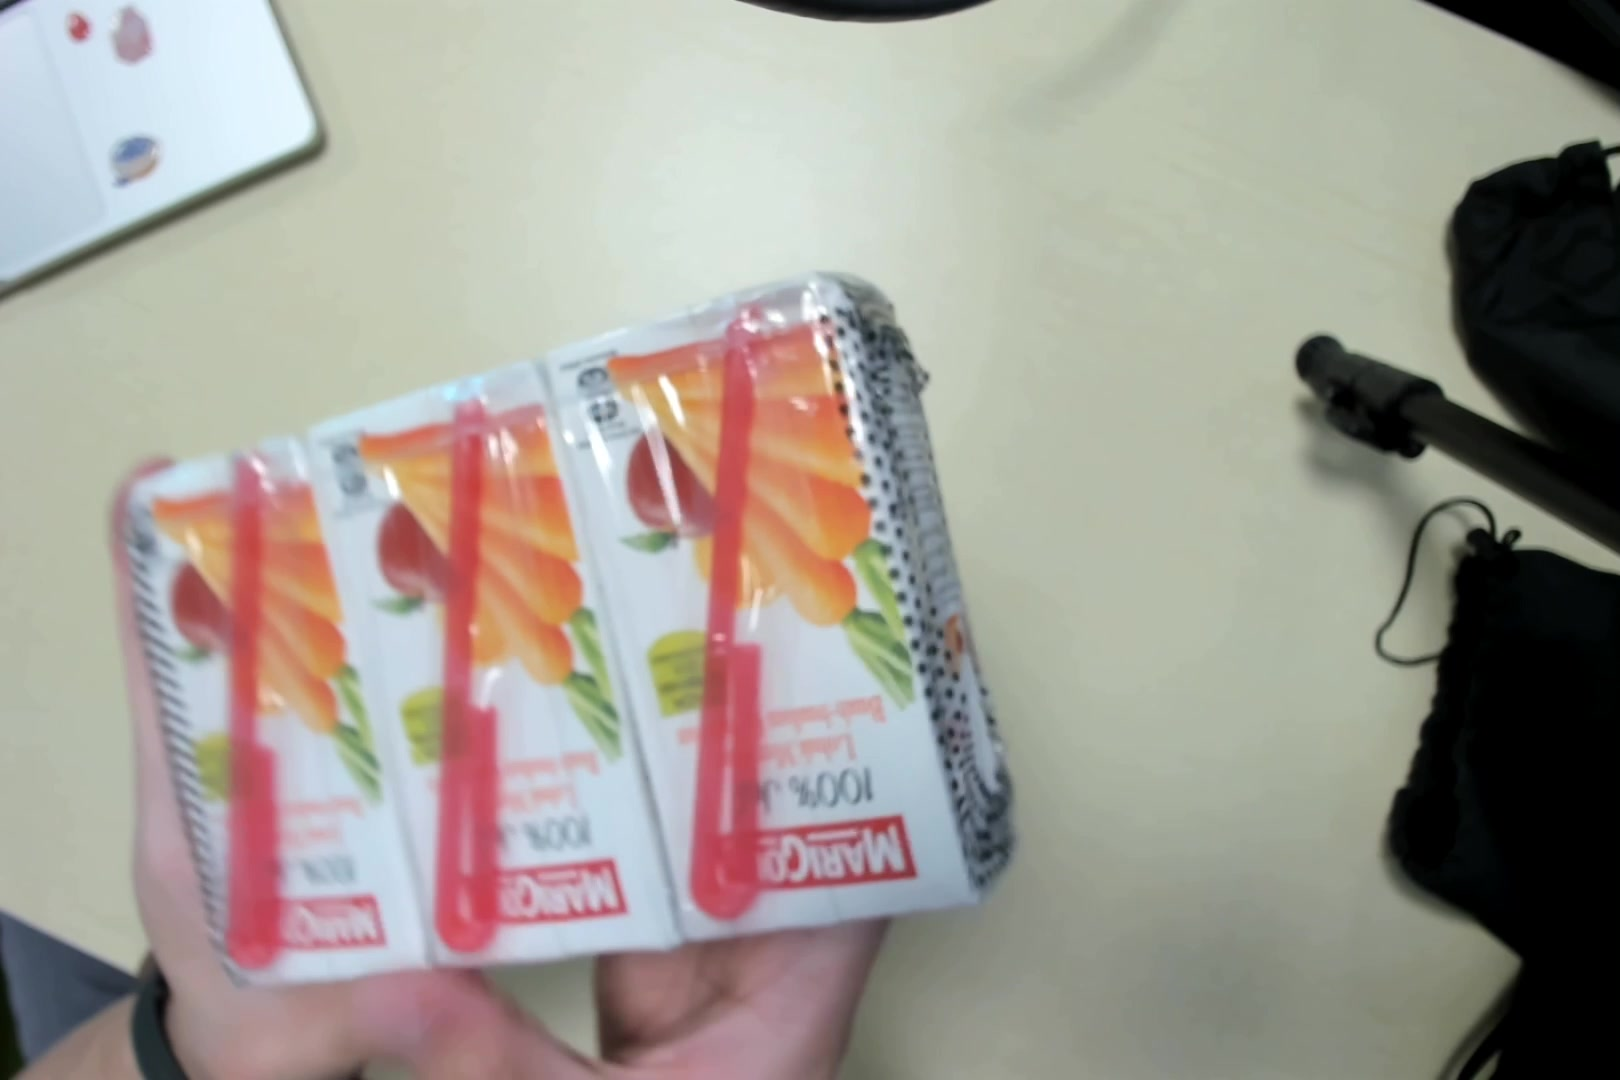FruitJuiceDrink_500-599g_Halal_NonHealthy: (137, 270, 1019, 969)
